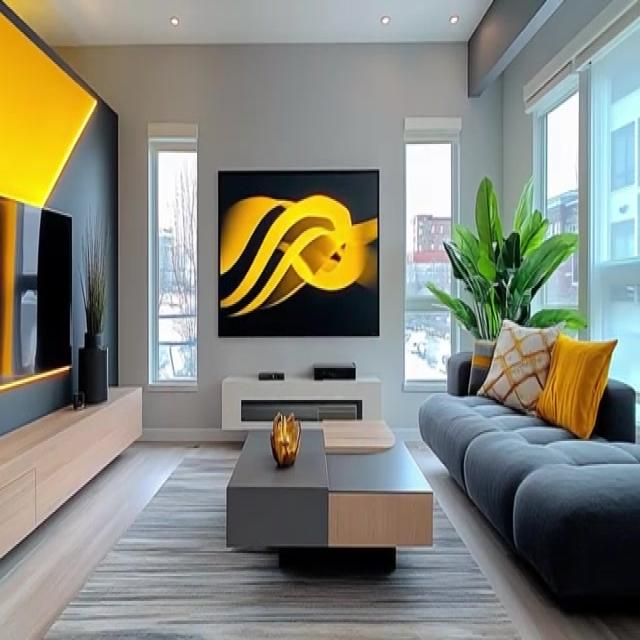obstacle: (418, 342, 639, 614), (225, 421, 433, 567), (221, 374, 381, 431)
